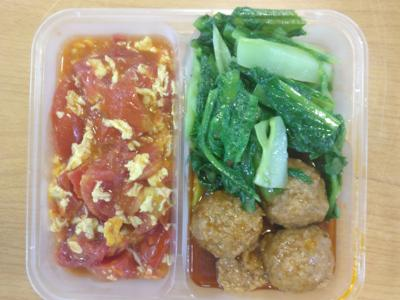jdxhs: (50, 34, 174, 289)
wz: (189, 168, 350, 295)
ymc: (182, 10, 347, 194)
